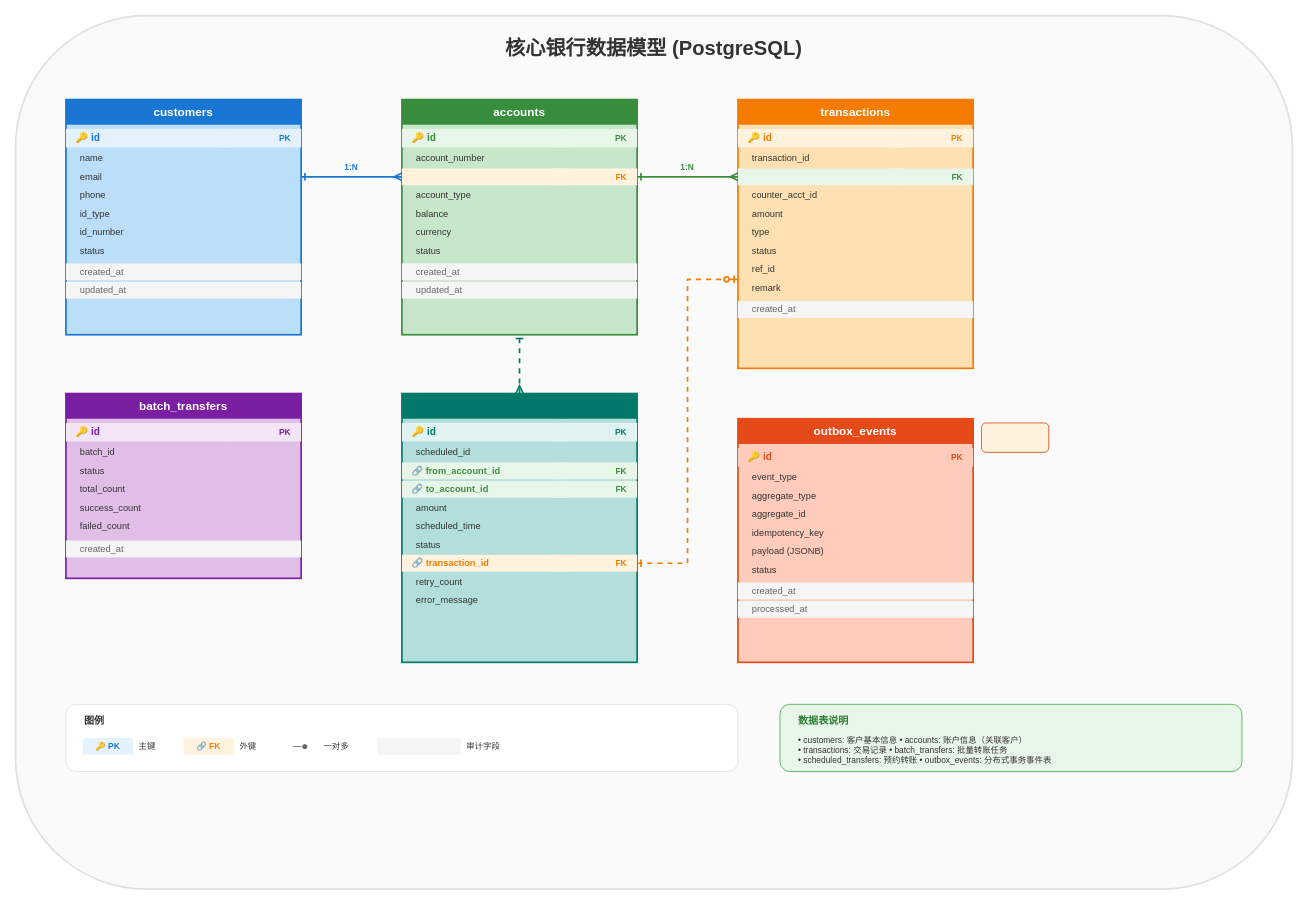
This 1307x904 diagram has some shape labels left out. Here are the shapes that lost their labels. From the top down, the box of each, then its label:
(402, 168, 570, 185): 🔗 customer_id
(738, 168, 906, 185): 🔗 account_id
(402, 393, 637, 418): scheduled_transfers
(981, 422, 1049, 452): Outbox Pattern 分布式事务
(376, 738, 460, 754): created/updated
